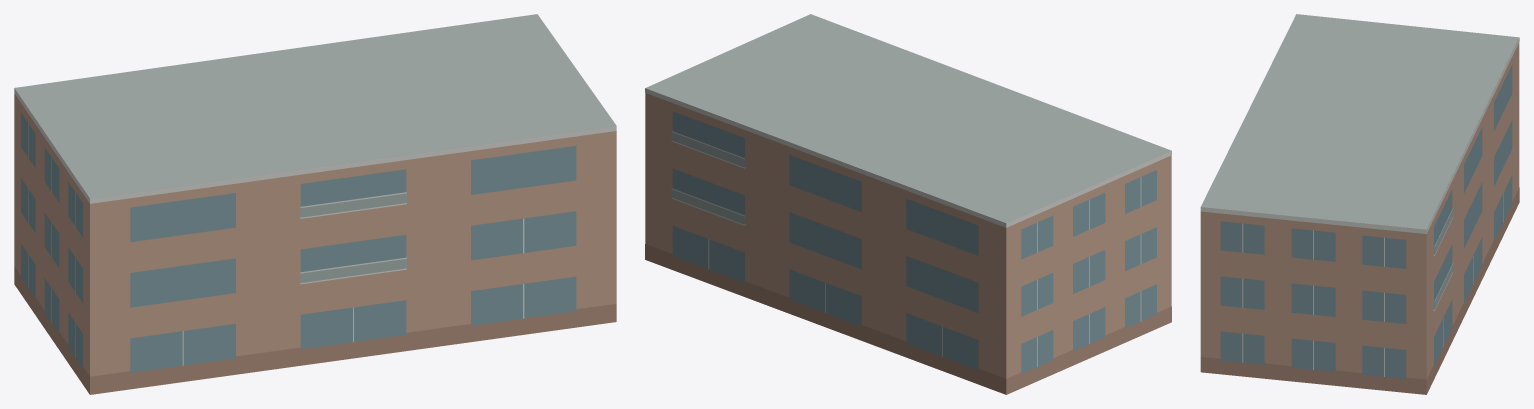
The model's file is survey-upis-32896832.glb.
3 views of the same model, side by side, from view 1: azimuth 30°, elevation 25°; view 2: azimuth 150°, elevation 25°; view 3: azimuth 270°, elevation 25° (orthographic). The views are drawn at different scales.
Visible parts, largest first — view 1: survey-upis-32896832.tmp; view 2: survey-upis-32896832.tmp; view 3: survey-upis-32896832.tmp.
Part boxes in pixels (x1,y1,x2,y2): survey-upis-32896832.tmp: [14, 14, 616, 394]; survey-upis-32896832.tmp: [645, 14, 1171, 394]; survey-upis-32896832.tmp: [1200, 14, 1519, 394].
Bounding box in the file's own units: 25.62 × 9.15 × 16.01.
